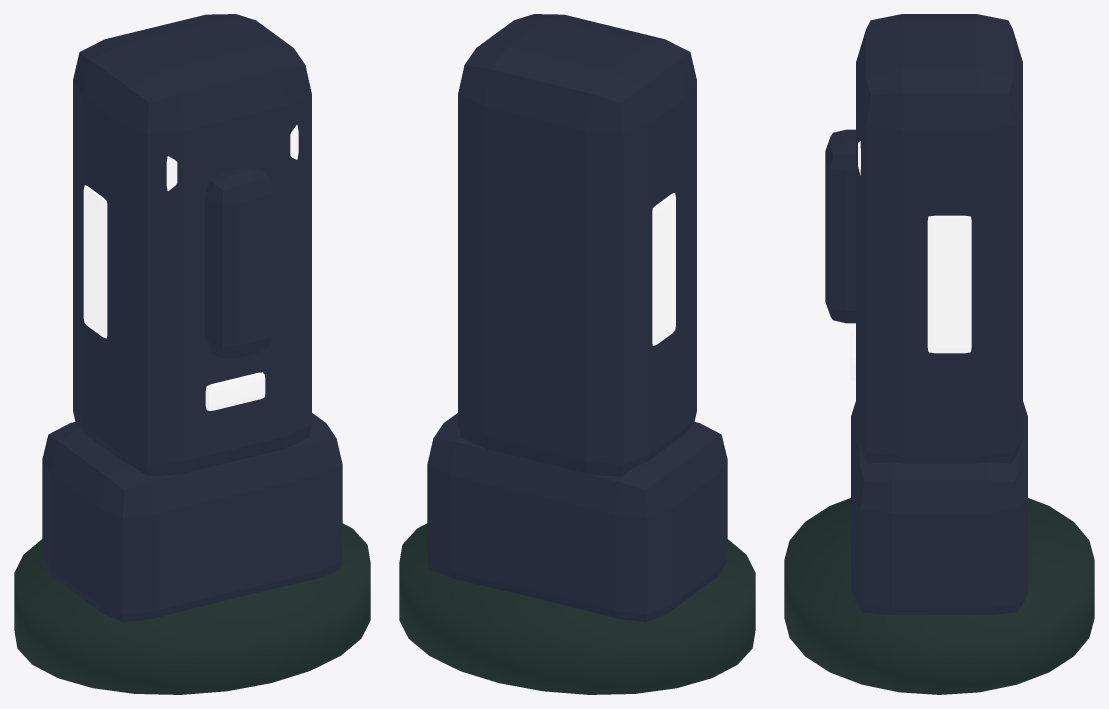
File: emblem_moai.glb
The picture shows the model from 3 angles, left to right: view 1: azimuth 30°, elevation 25°; view 2: azimuth 150°, elevation 25°; view 3: azimuth 270°, elevation 25°; orthographic projection.
Visible parts, largest first — view 1: head.002_ol, shoulders_ol, mound_ol, nose_ol, ear-1, lips, brow; view 2: head.002_ol, shoulders_ol, mound_ol, ear-1; view 3: head.002_ol, mound_ol, shoulders_ol, ear1, nose_ol.
Boxes of the visible parts, bbox=[...] form: head.002_ol: bbox=[73, 14, 311, 476]; shoulders_ol: bbox=[42, 413, 342, 622]; mound_ol: bbox=[14, 523, 370, 694]; nose_ol: bbox=[205, 167, 272, 358]; ear-1: bbox=[83, 185, 107, 338]; lips: bbox=[205, 372, 265, 410]; brow: bbox=[166, 125, 298, 190]; head.002_ol: bbox=[458, 14, 696, 476]; shoulders_ol: bbox=[427, 413, 727, 622]; mound_ol: bbox=[399, 523, 755, 694]; ear-1: bbox=[652, 193, 675, 345]; head.002_ol: bbox=[856, 14, 1022, 463]; mound_ol: bbox=[784, 498, 1094, 694]; shoulders_ol: bbox=[851, 401, 1027, 615]; ear1: bbox=[927, 215, 971, 353]; nose_ol: bbox=[825, 129, 855, 323].
Size of the model in its own units: 0.7167 by 1.25 by 0.6092.
